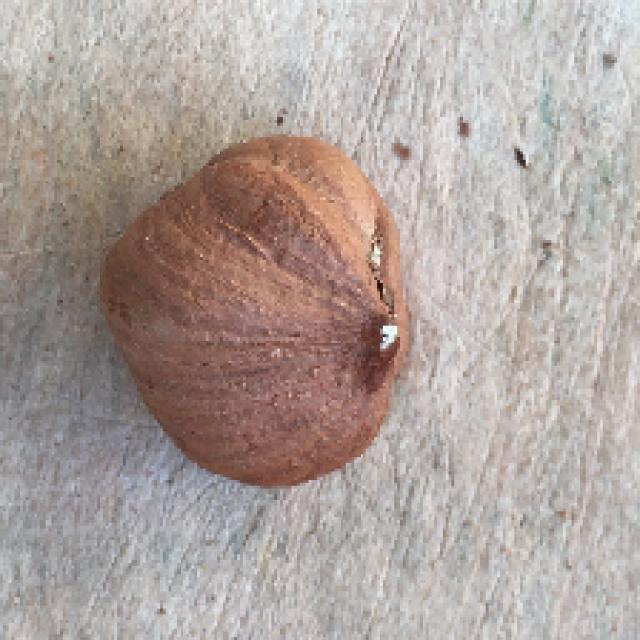hazelnut: (100, 123, 412, 481)
